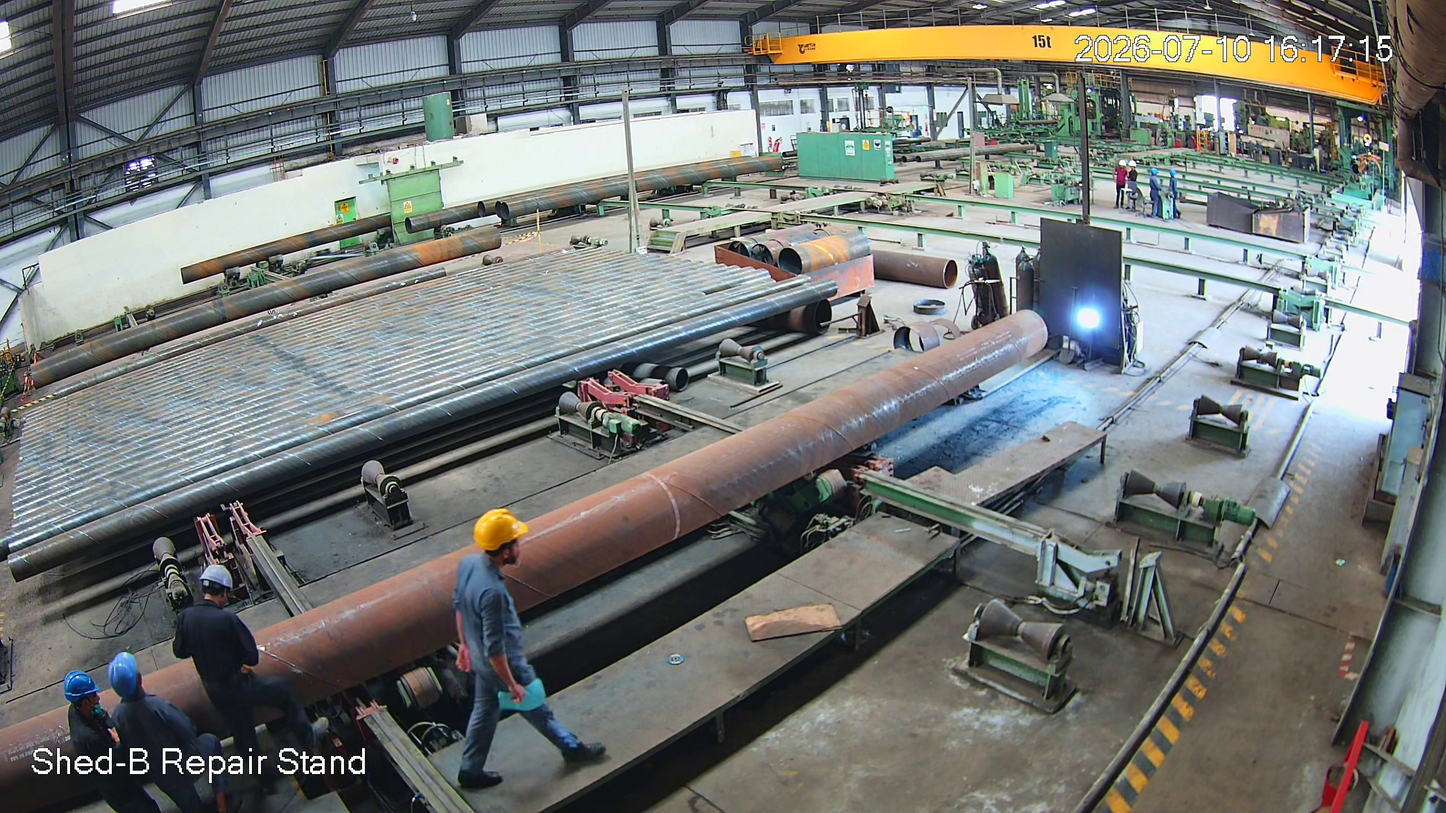Helmet: (463, 498, 534, 605), (188, 558, 262, 648), (59, 664, 122, 733), (101, 653, 155, 709), (1149, 168, 1161, 180), (1168, 168, 1179, 180), (1128, 160, 1137, 173), (1118, 159, 1125, 171)
Person: (433, 503, 590, 813), (178, 560, 302, 811), (107, 656, 217, 813), (60, 671, 131, 813), (1166, 169, 1183, 216), (1148, 169, 1165, 215), (1113, 160, 1131, 203), (1127, 161, 1141, 184)
